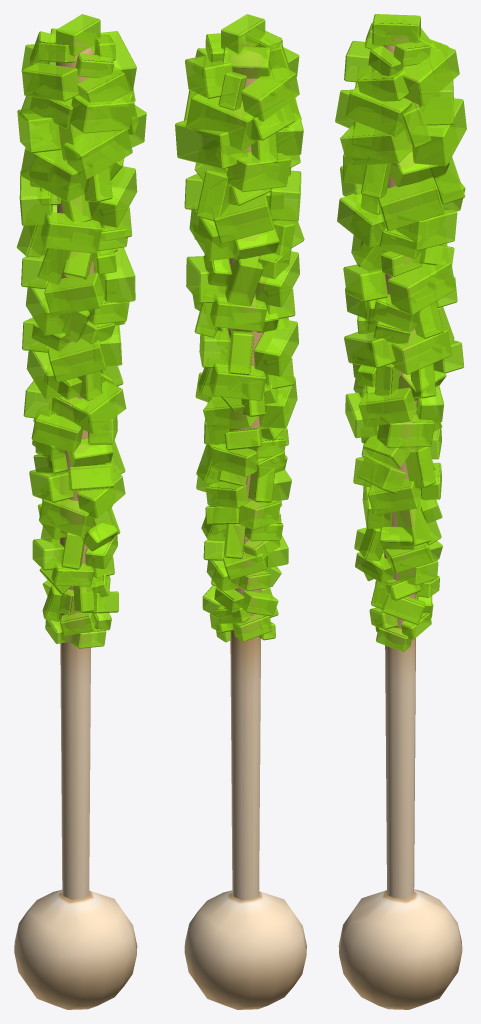
Rendered from Pop_Rock_Candy_Green.FBX.
3 renders of one model, left to right at view 1: azimuth 30°, elevation 25°; view 2: azimuth 210°, elevation 25°; view 3: azimuth 330°, elevation 25°, orthographic.
Visible parts, largest first — view 1: Green, Stick; view 2: Green, Stick; view 3: Green, Stick.
Part boxes in pixels (x1,y1,x2,y2): Green: [16, 14, 146, 648]; Stick: [14, 39, 137, 1009]; Green: [175, 14, 304, 642]; Stick: [184, 44, 306, 1009]; Green: [335, 14, 466, 651]; Stick: [338, 35, 462, 1009].
Bounding box in the file's own units: 12.36 × 100 × 11.79.
2 materials, 2 textured.
